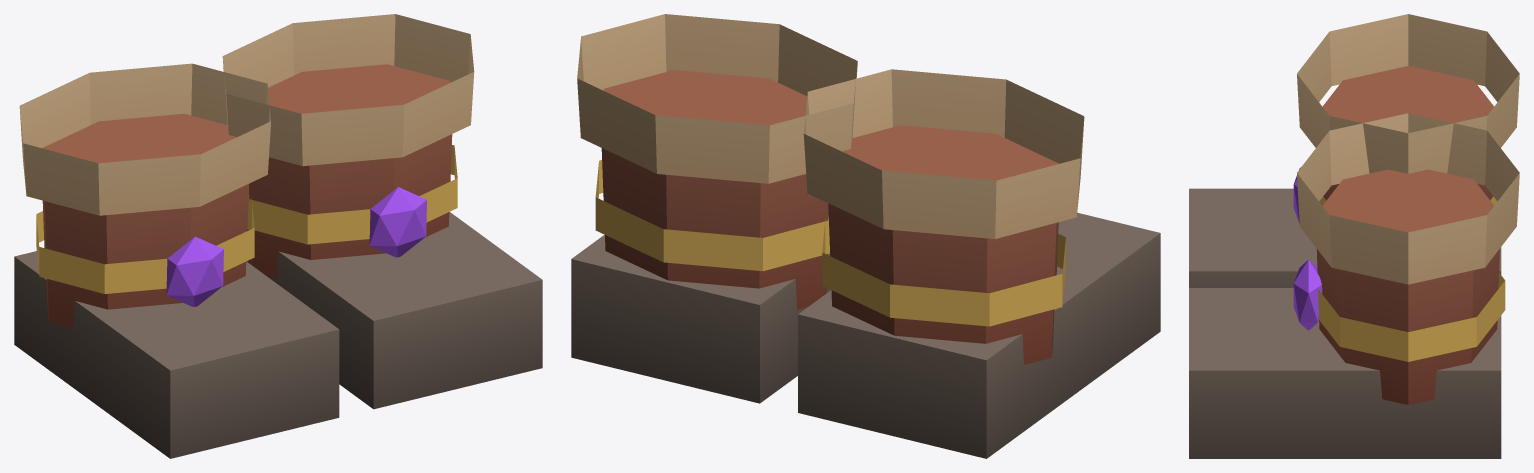
Rendered from berserker_hunter_boots_t3.glb.
3 views of the same model, side by side, from view 1: azimuth 30°, elevation 25°; view 2: azimuth 150°, elevation 25°; view 3: azimuth 270°, elevation 25° (orthographic). The views are drawn at different scales.
Visible parts, largest first — view 1: berserker_hunter_boots_t3__lowerleg_r, berserker_hunter_boots_t3__lowerleg_l, berserker_hunter_boots_t3__foot_r, berserker_hunter_boots_t3__foot_l; view 2: berserker_hunter_boots_t3__lowerleg_r, berserker_hunter_boots_t3__lowerleg_l, berserker_hunter_boots_t3__foot_r, berserker_hunter_boots_t3__foot_l; view 3: berserker_hunter_boots_t3__lowerleg_l, berserker_hunter_boots_t3__foot_l, berserker_hunter_boots_t3__lowerleg_r, berserker_hunter_boots_t3__foot_r.
Part boxes in pixels (x1=…): berserker_hunter_boots_t3__lowerleg_r: x1=19, y1=63, x2=271, y2=328; berserker_hunter_boots_t3__lowerleg_l: x1=222, y1=14, x2=474, y2=278; berserker_hunter_boots_t3__foot_r: x1=14, y1=251, x2=339, y2=458; berserker_hunter_boots_t3__foot_l: x1=247, y1=212, x2=542, y2=409; berserker_hunter_boots_t3__lowerleg_r: x1=803, y1=69, x2=1084, y2=364; berserker_hunter_boots_t3__lowerleg_l: x1=577, y1=14, x2=857, y2=309; berserker_hunter_boots_t3__foot_r: x1=798, y1=212, x2=1160, y2=458; berserker_hunter_boots_t3__foot_l: x1=571, y1=234, x2=830, y2=403; berserker_hunter_boots_t3__lowerleg_l: x1=1293, y1=113, x2=1519, y2=404; berserker_hunter_boots_t3__foot_l: x1=1189, y1=288, x2=1501, y2=458; berserker_hunter_boots_t3__lowerleg_r: x1=1293, y1=14, x2=1519, y2=223; berserker_hunter_boots_t3__foot_r: x1=1189, y1=188, x2=1501, y2=287.
Size of the model in its own units: 1.5 by 0.7825 by 0.9579.
Materials: 2 (1 with a texture image).
